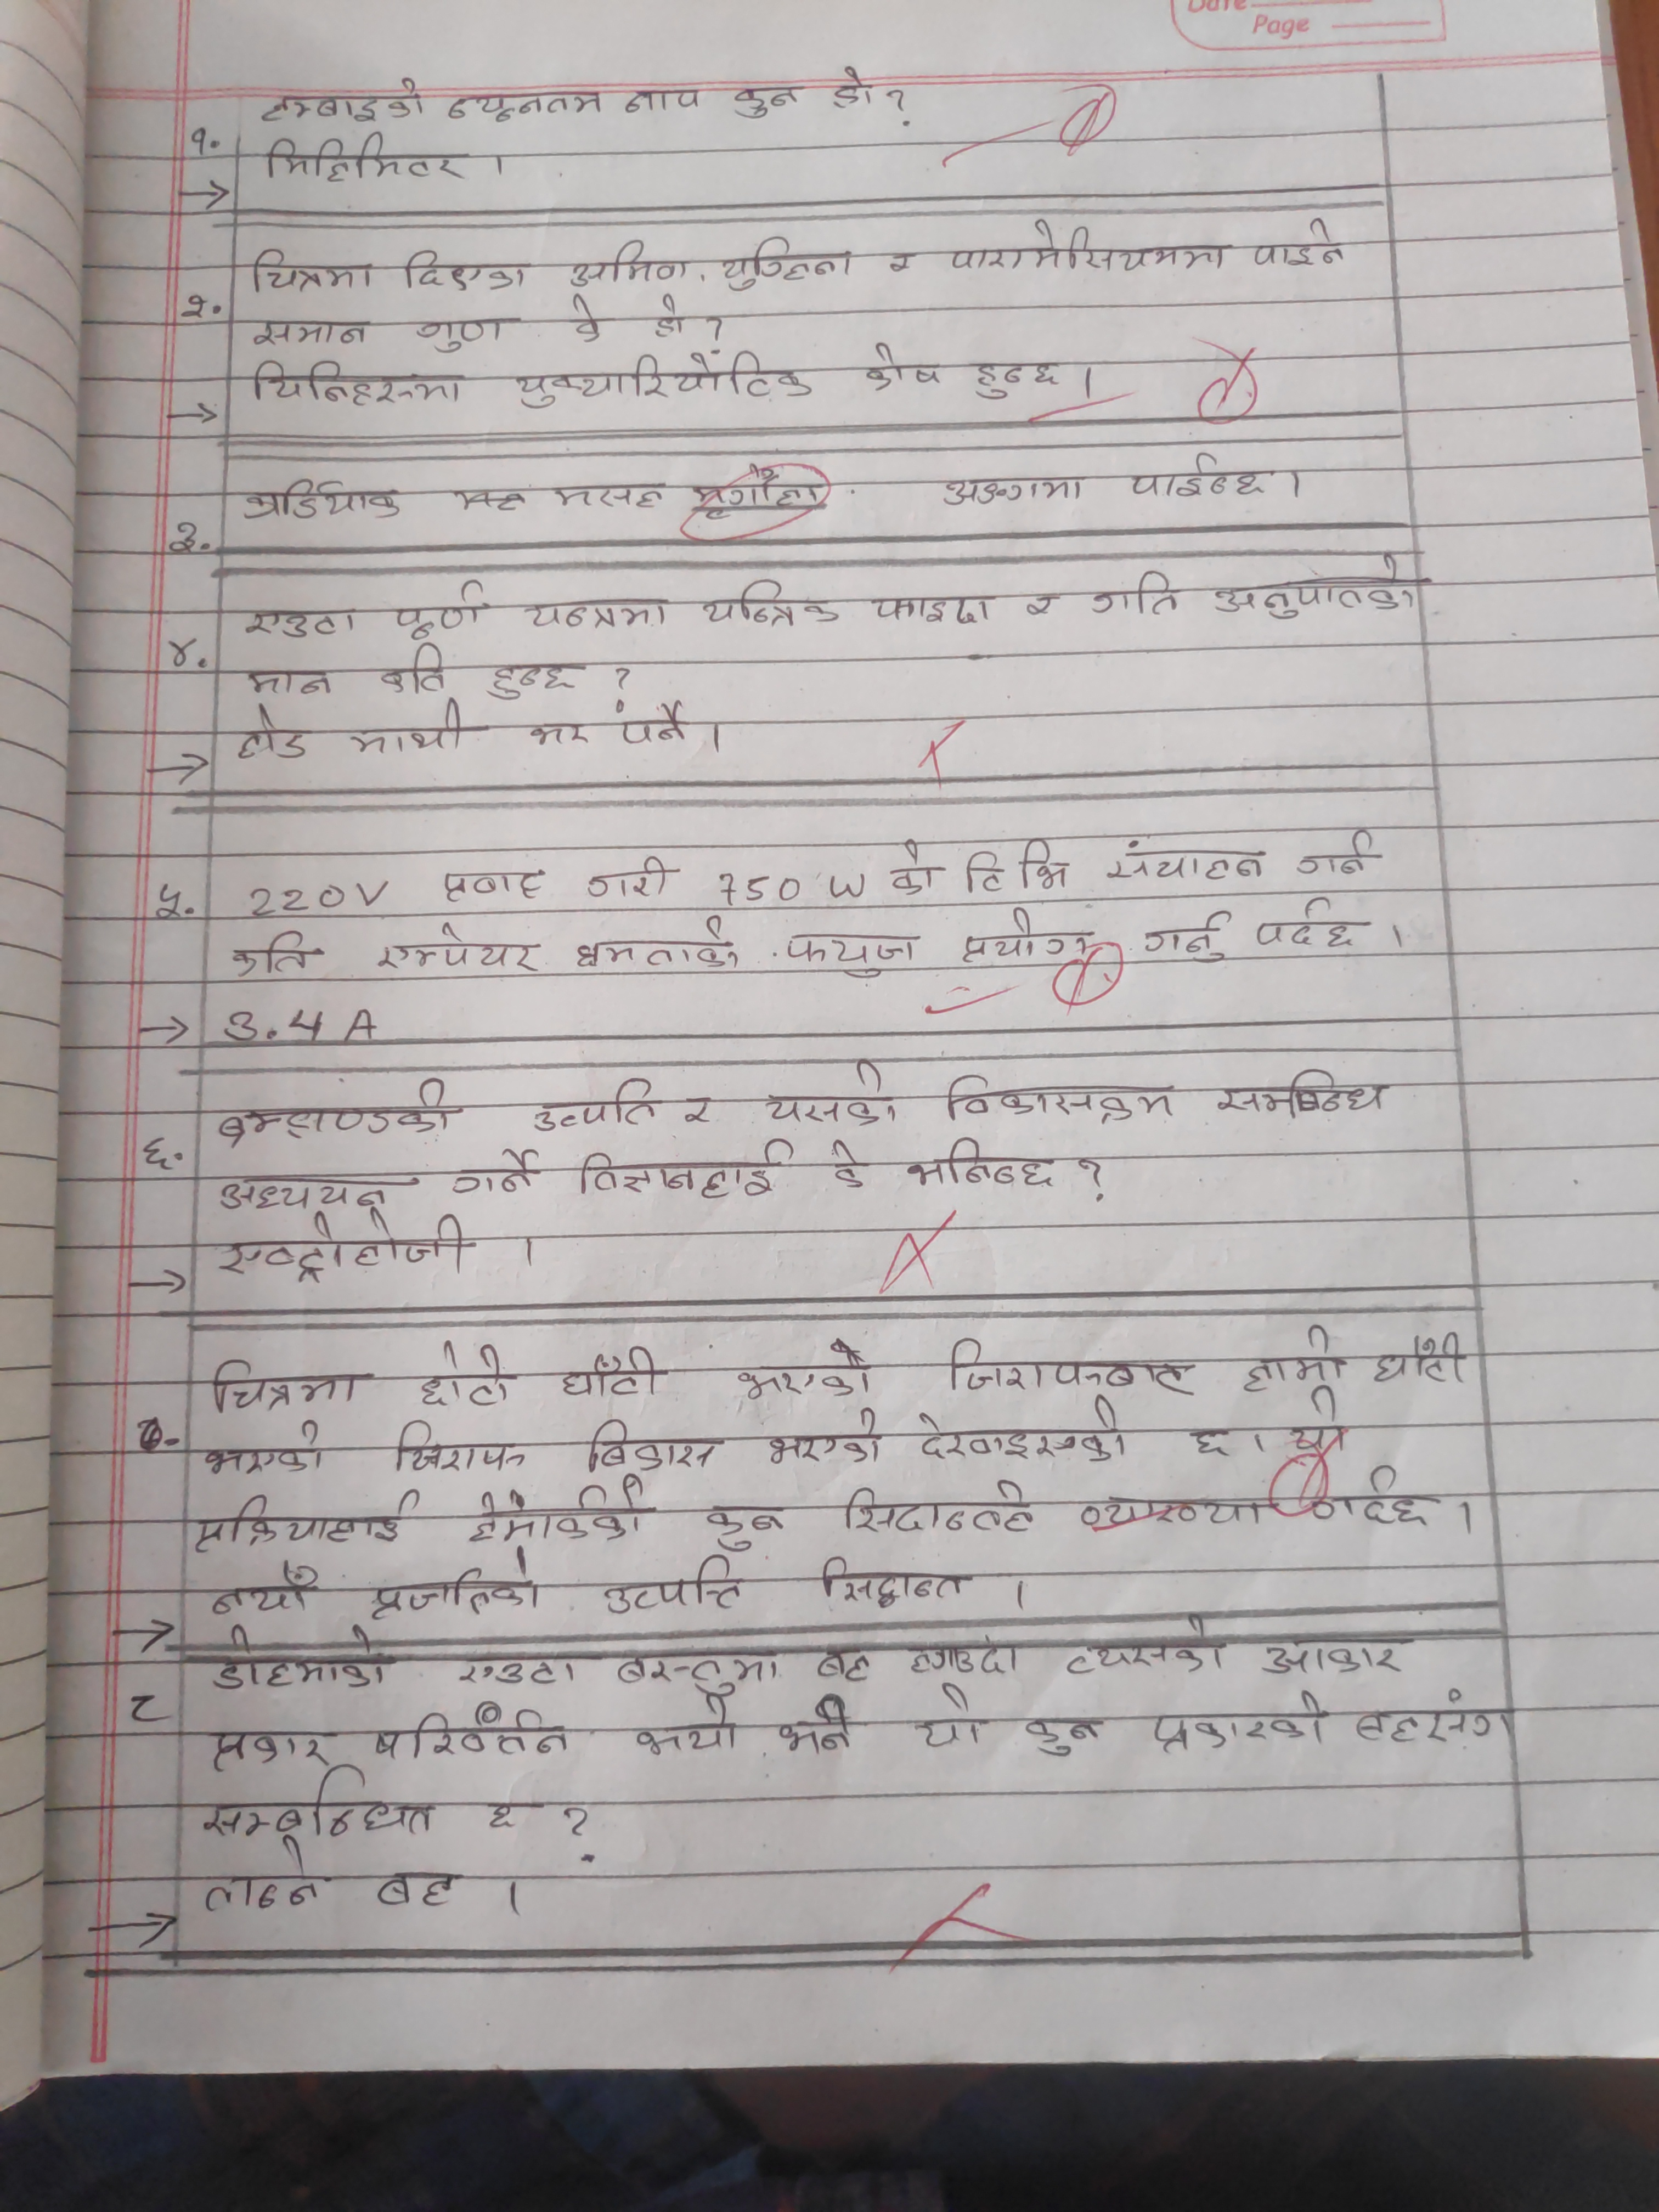text: (202, 1075, 462, 1146), (216, 1214, 471, 1280), (186, 1777, 448, 1839), (505, 354, 810, 406), (945, 219, 1230, 275), (185, 1489, 427, 1550), (910, 1402, 1140, 1465), (1208, 554, 1419, 622), (369, 1702, 589, 1766), (941, 1068, 1183, 1125), (1141, 1684, 1331, 1756), (941, 1339, 1199, 1392), (202, 1627, 392, 1695), (364, 1555, 552, 1622), (572, 1146, 795, 1200), (840, 1477, 1040, 1536), (247, 359, 467, 413), (469, 1479, 650, 1541), (725, 1334, 880, 1407), (199, 1838, 331, 1923), (760, 1055, 913, 1129), (1054, 1615, 1230, 1677), (1351, 1684, 1525, 1745), (1215, 1062, 1392, 1122), (805, 1550, 972, 1613), (572, 916, 748, 975), (256, 136, 467, 185), (1068, 1491, 1283, 1538), (946, 902, 1094, 968), (371, 921, 545, 977), (206, 1359, 369, 1418), (781, 918, 927, 984), (240, 467, 399, 528), (526, 1062, 664, 1132), (598, 1559, 755, 1620), (218, 1170, 413, 1219), (720, 230, 861, 293), (1100, 840, 1269, 892), (1126, 446, 1270, 507), (697, 573, 840, 634), (904, 1136, 1060, 1191), (1302, 1465, 1429, 1533), (631, 1691, 746, 1764), (756, 1409, 889, 1472), (415, 1334, 523, 1411), (256, 77, 432, 124), (383, 1420, 532, 1475), (577, 1420, 723, 1475), (1248, 895, 1370, 961), (197, 1420, 329, 1480), (958, 833, 1075, 900), (345, 698, 474, 759), (1241, 1320, 1345, 1395), (566, 233, 694, 291), (396, 242, 535, 294), (523, 592, 676, 639), (387, 575, 497, 639), (554, 1346, 669, 1407), (206, 1724, 347, 1773), (1371, 1329, 1480, 1392), (620, 1653, 774, 1696), (1256, 1634, 1410, 1677), (251, 246, 376, 298), (1087, 563, 1195, 622), (904, 1684, 992, 1757), (441, 85, 606, 124), (1249, 212, 1351, 275), (209, 1566, 315, 1625), (934, 469, 1091, 507), (429, 866, 559, 911), (1140, 904, 1230, 968), (694, 1501, 798, 1555), (247, 312, 376, 355), (232, 704, 319, 768), (906, 1635, 1021, 1684), (775, 1698, 857, 1766), (1011, 1703, 1108, 1759), (448, 1143, 542, 1200), (453, 1649, 587, 1689), (958, 355, 1077, 401), (854, 336, 950, 392), (1286, 829, 1384, 883), (240, 599, 361, 643), (225, 923, 315, 981), (579, 852, 676, 904), (240, 655, 352, 700), (875, 589, 1000, 627), (545, 477, 669, 516), (371, 639, 448, 700), (481, 655, 587, 698), (1279, 1395, 1356, 1454), (408, 310, 514, 352), (617, 695, 695, 751), (371, 1869, 465, 1914), (622, 75, 709, 120), (889, 836, 939, 904), (823, 1134, 875, 1198), (730, 75, 803, 120), (824, 56, 880, 111), (807, 1646, 878, 1688), (526, 707, 591, 752), (1178, 1423, 1241, 1463), (471, 1789, 525, 1832), (565, 291, 606, 345), (645, 291, 688, 341), (1018, 580, 1063, 627), (678, 1090, 721, 1136), (878, 246, 922, 282)
